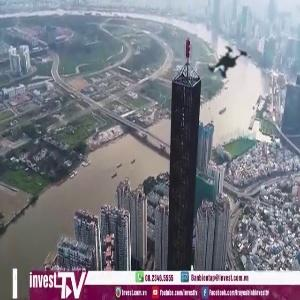drone: (188, 23, 269, 104)
